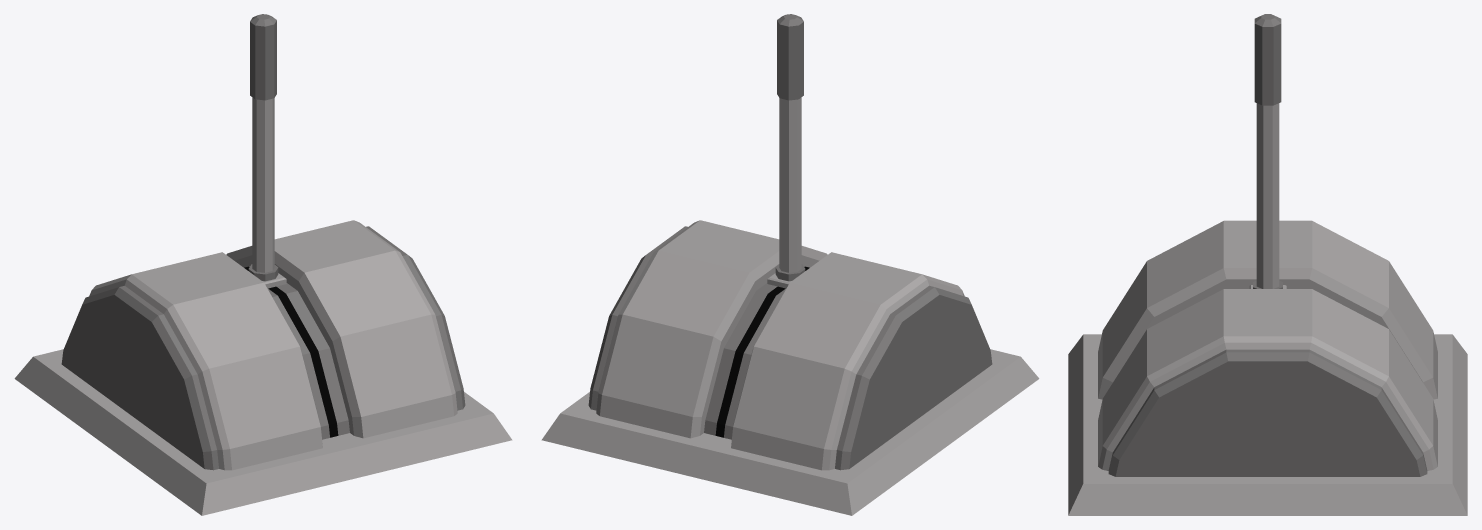
The model's file is MetalFloorLever_4.fbx.
3 renders of one model, left to right at view 1: azimuth 30°, elevation 25°; view 2: azimuth 150°, elevation 25°; view 3: azimuth 270°, elevation 25°, orthographic. The views are drawn at different scales.
Parts seen in each view (by area): view 1: MetalFloorLever_4_Casing, MetalFloorLever_4_Handle; view 2: MetalFloorLever_4_Casing, MetalFloorLever_4_Handle; view 3: MetalFloorLever_4_Casing, MetalFloorLever_4_Handle.
Boxes of the visible parts, bbox=[...] form: MetalFloorLever_4_Casing: bbox=[14, 220, 512, 515]; MetalFloorLever_4_Handle: bbox=[248, 14, 286, 288]; MetalFloorLever_4_Casing: bbox=[541, 220, 1039, 515]; MetalFloorLever_4_Handle: bbox=[767, 14, 805, 288]; MetalFloorLever_4_Casing: bbox=[1068, 220, 1467, 515]; MetalFloorLever_4_Handle: bbox=[1249, 14, 1286, 288].
Size of the model in its own units: 74.94 by 90.5 by 78.35.
